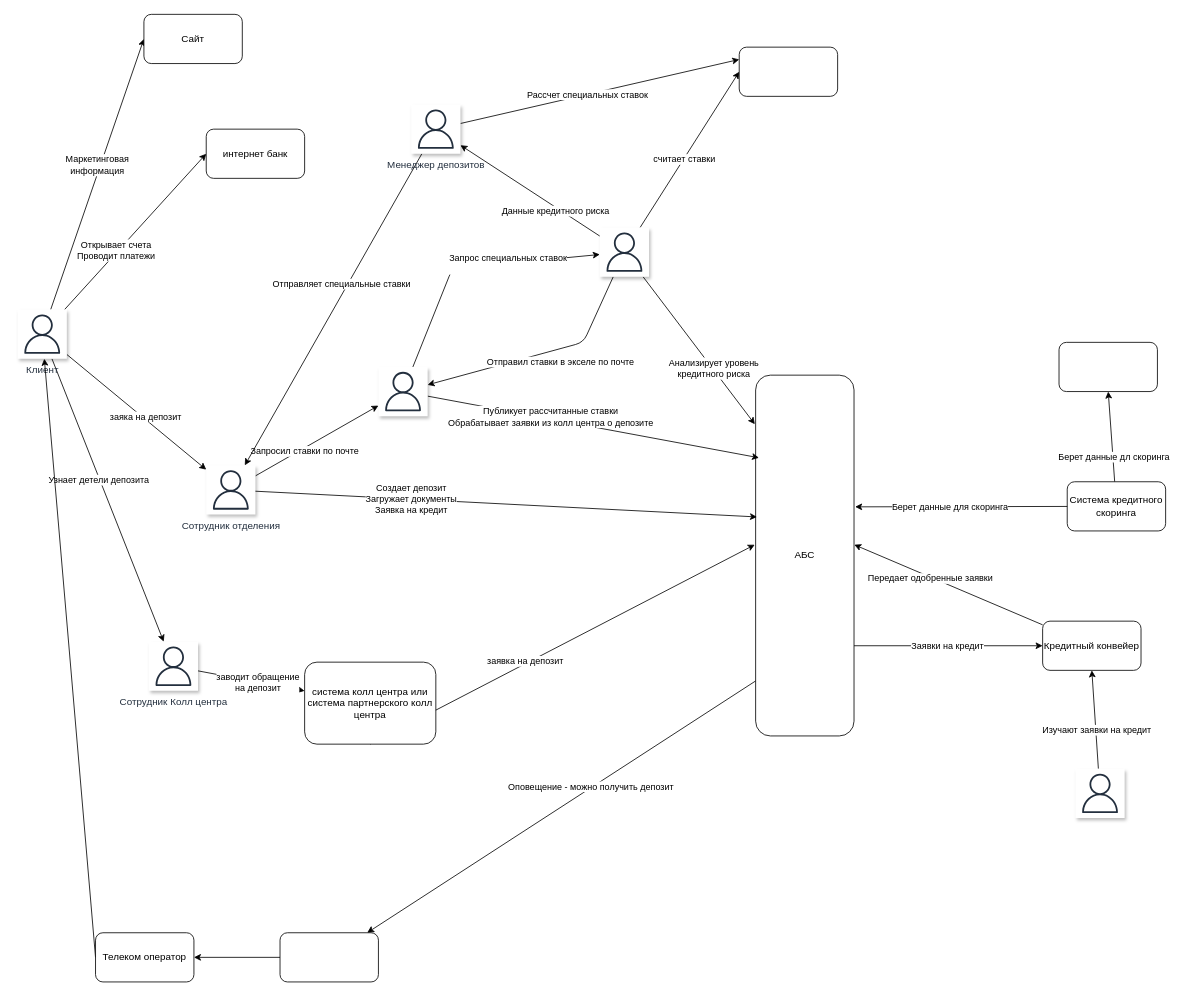
This 1191x996 diagram has some shape labels left out. The centre of each missing label's shape, as x and y in pixels:
Excel: (x=788, y=71)
Бюро кредитных историй: (x=1107, y=367)
Менеджеры отдела кредитования: (x=1100, y=794)
СМС шлюз: (x=328, y=957)
Сотрудник бэк офиса: (x=403, y=392)
Сотрудник отдела кредитования: (x=625, y=252)
